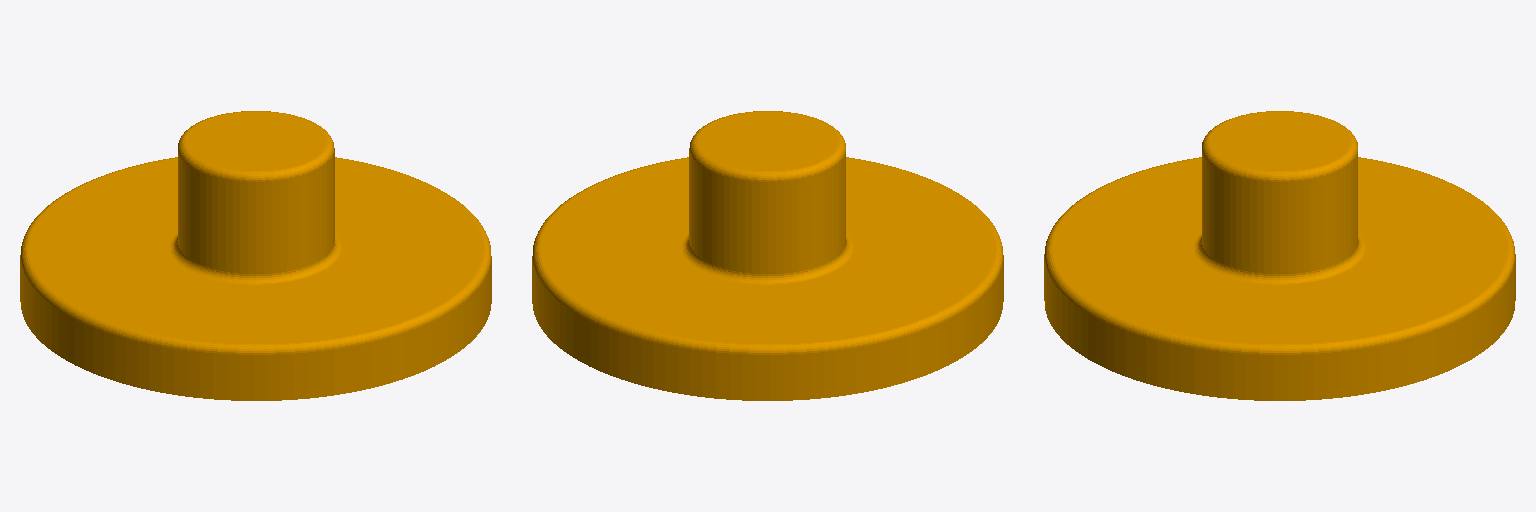
URDF robot description (benchmark_part_7):
<robot name="benchmark_part_7">
  <link name="base_link">
    <visual>
      <geometry>
        <mesh filename="benchmark_parts_stl/benchmark_part_7.stl" scale="0.001 0.001 0.001" />
      </geometry>
    <origin xyz="0.1350000000808859 3.615718342241028e-14 -0.011567188077373447" rpy="0 0 0" /></visual>
    <collision>
      <geometry>
        <mesh filename="benchmark_parts_stl/benchmark_part_7_vhacd.obj" scale="0.01 0.01 0.01" />
      </geometry>
    <origin xyz="0.1350000000808859 3.615718342241028e-14 -0.011567188077373447" rpy="0 0 0" /></collision>
    <inertial>
      <mass value="0.1" />
      <inertia ixx="0.001" ixy="0.0" ixz="0.0" iyy="0.001" iyz="0.0" izz="0.001" />
    </inertial>
  </link>
</robot>

--- Facts derived from the render (not from the file) ---
The picture shows the robot from 3 angles, left to right: view 1: azimuth 30°, elevation 25°; view 2: azimuth 150°, elevation 25°; view 3: azimuth 270°, elevation 25°; orthographic projection.
Model benchmark_part_7 with 1 links and 0 joints (none), rooted at base_link, posed every joint at zero.
Visible links, largest first — view 1: base_link; view 2: base_link; view 3: base_link.
Boxes of the visible links, bbox=[...] form: base_link: bbox=[20, 111, 491, 400]; base_link: bbox=[532, 111, 1003, 400]; base_link: bbox=[1044, 111, 1515, 400].
Size in the robot's own frame: 0.12 by 0.12 by 0.045 metres.
Meshes: 1 distinct files referenced, 1 mesh visuals loaded (1 binary STL).